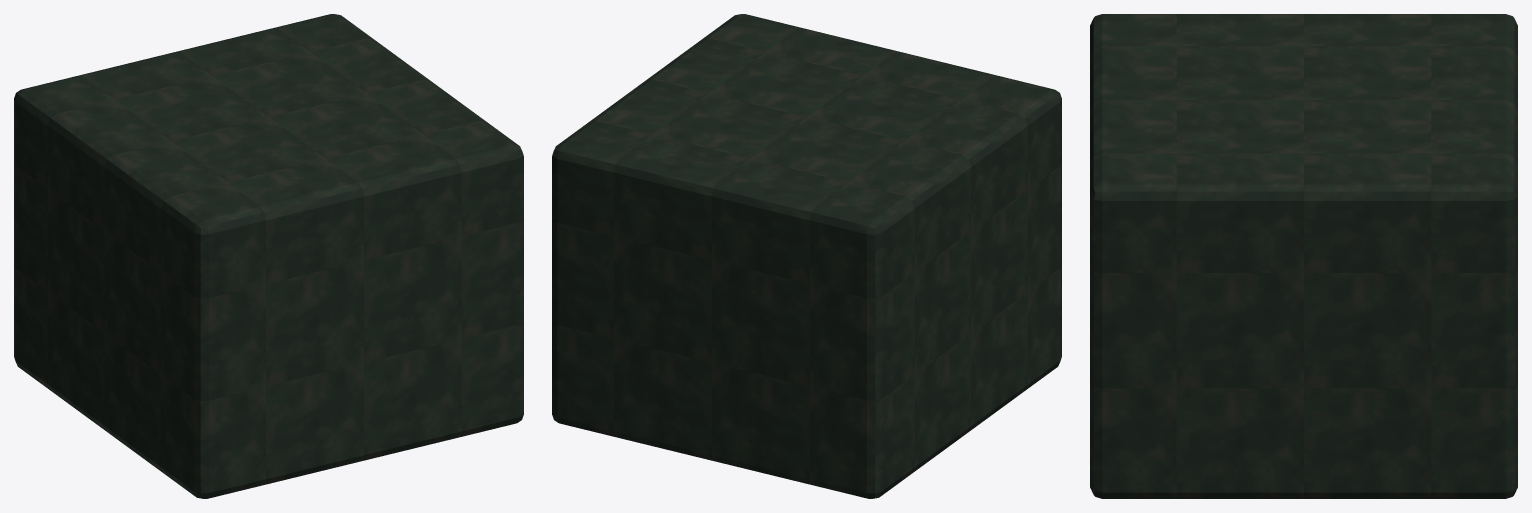
Rendered from Street_BlockR1_Tank.obj.
The picture shows the model from 3 angles, left to right: view 1: azimuth 30°, elevation 25°; view 2: azimuth 150°, elevation 25°; view 3: azimuth 270°, elevation 25°; orthographic projection. The views are drawn at different scales.
Size of the model in its own units: 2.1 by 1.7 by 2.1.
1 material, 1 textured.
